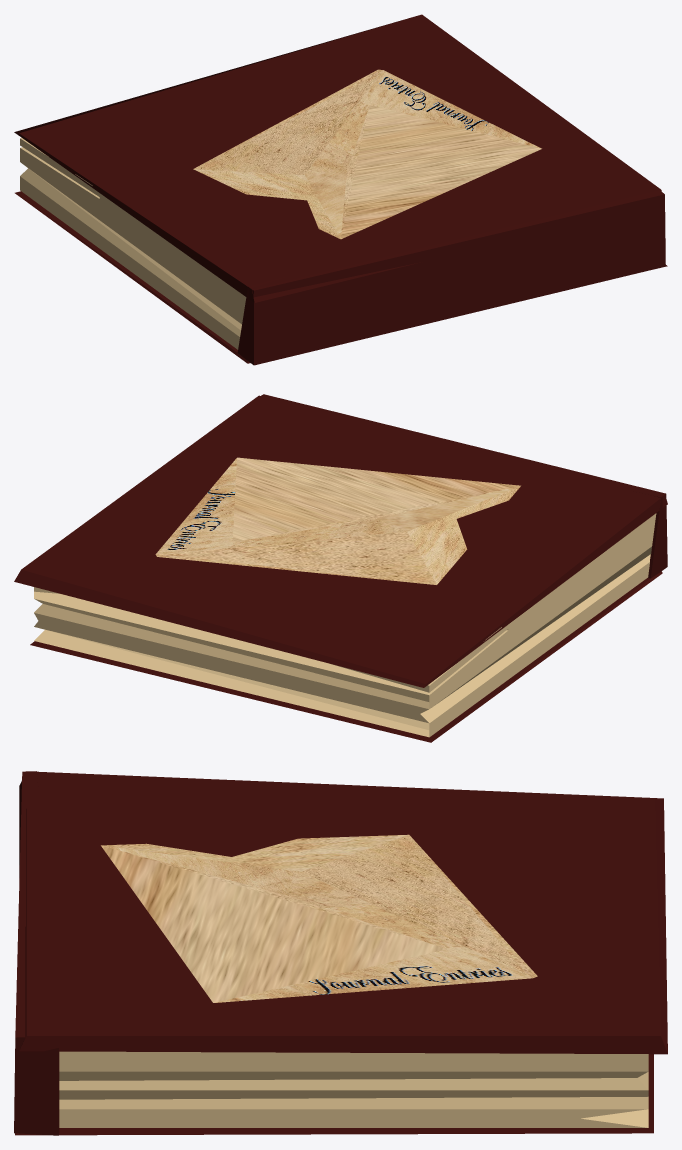
Rendered from Journal.fbx.
The picture shows the model from 3 angles, top to bottom: view 1: azimuth 30°, elevation 25°; view 2: azimuth 150°, elevation 25°; view 3: azimuth 270°, elevation 25°; orthographic projection. The views are drawn at different scales.
Visible parts, largest first — view 1: Cube.001, Cube.003, Cube.004, Cube, Cube.002; view 2: Cube.001, Cube, Cube.004, Cube.002, Cube.003; view 3: Cube.001, Cube.004, Cube, Cube.003, Cube.002.
Part boxes in pixels (box(x1,y1,x2,y2)): Cube.001: box(14, 14, 661, 302); Cube.003: box(237, 191, 665, 365); Cube.004: box(193, 69, 541, 239); Cube: box(20, 138, 246, 349); Cube.002: box(15, 191, 667, 363); Cube.001: box(14, 395, 667, 687); Cube: box(34, 513, 656, 737); Cube.004: box(155, 457, 520, 584); Cube.002: box(30, 571, 662, 742); Cube.003: box(261, 394, 667, 578); Cube.001: box(19, 771, 667, 1054); Cube.004: box(101, 834, 537, 1002); Cube: box(59, 1051, 648, 1127); Cube.003: box(14, 771, 59, 1135); Cube.002: box(15, 1054, 653, 1135).
Size of the model in its own units: 208 by 37.21 by 214.
Materials: 3 (1 with a texture image).
